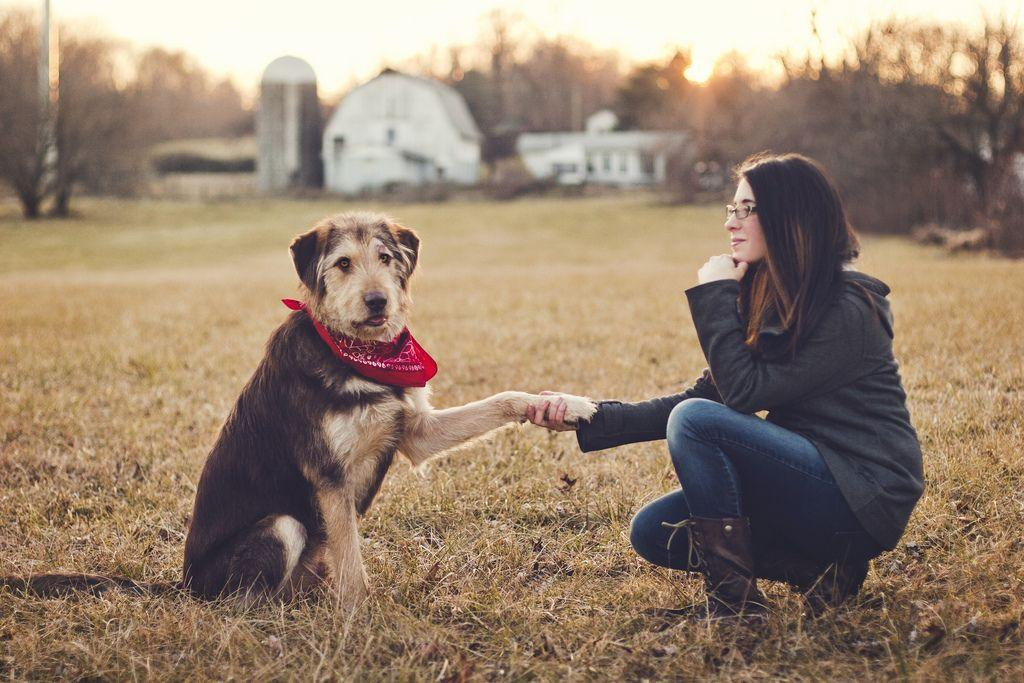face: (725, 178, 771, 266)
